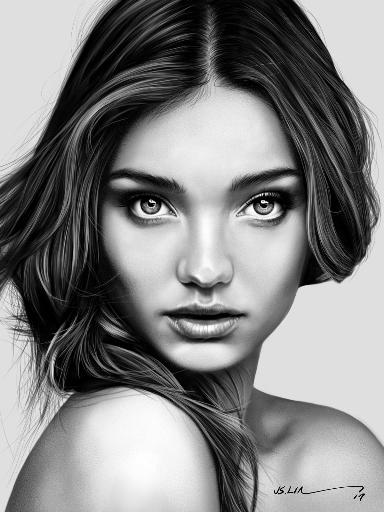left_eye: (237, 190, 291, 226)
left_lip_corner: (235, 307, 253, 326)
right_eye: (122, 192, 179, 227)
right_lip_corner: (159, 306, 175, 328)
